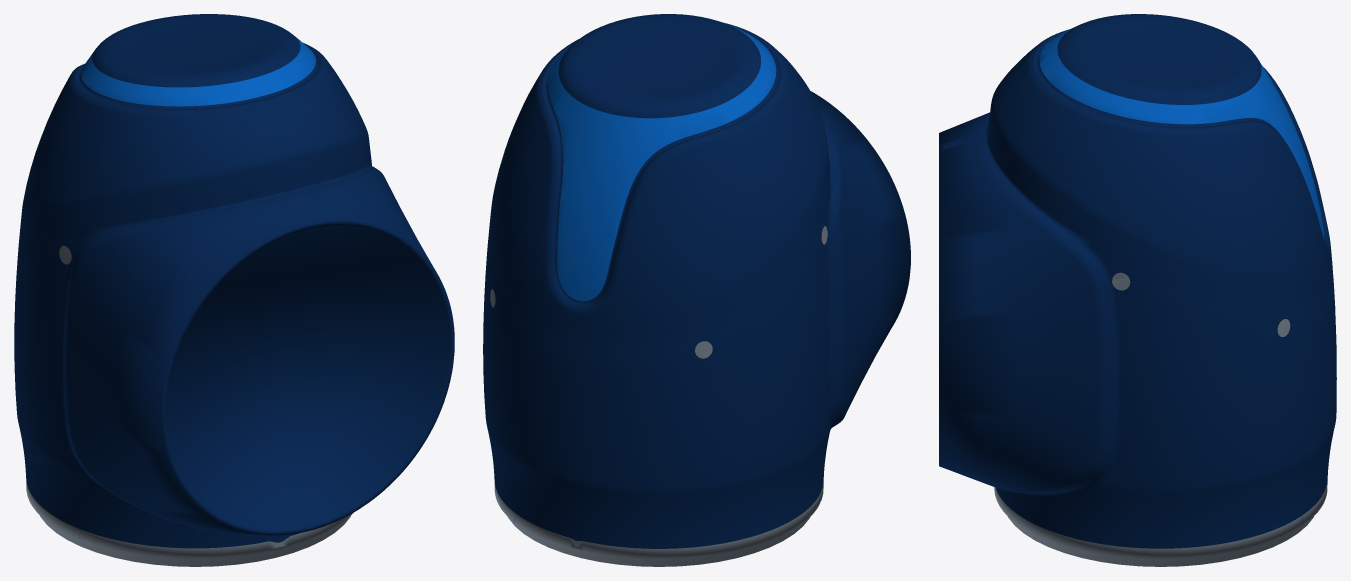
File: Link_1_Shoulder.dae
3 renders of one model, left to right at view 1: azimuth 30°, elevation 25°; view 2: azimuth 150°, elevation 25°; view 3: azimuth 270°, elevation 25°, orthographic. The views are drawn at different scales.
Size of the model in its own units: 0.1427 by 0.1564 by 0.1974.
